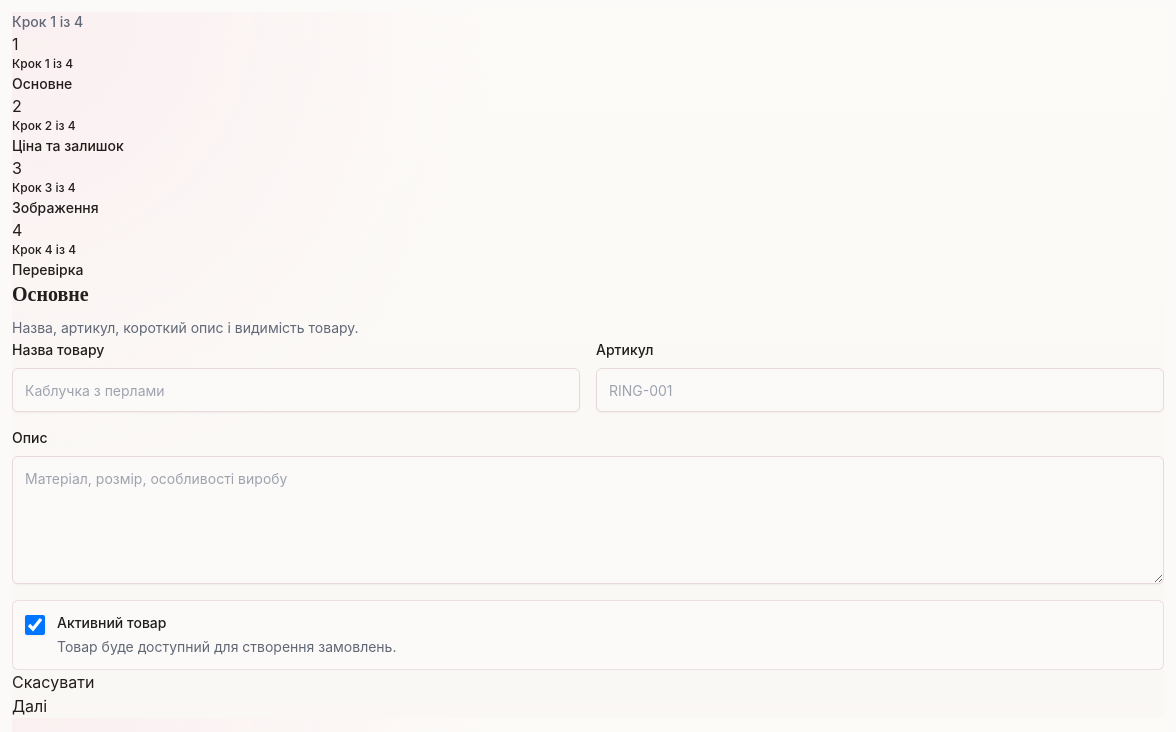
it: ProductForm › validates only the current step before moving forward
The image size is (1176, 732).
What coordinates should you click on to do the following:
click the button "Далі"
I would click on:
 (30, 706)
Its box is [12, 694, 47, 718].
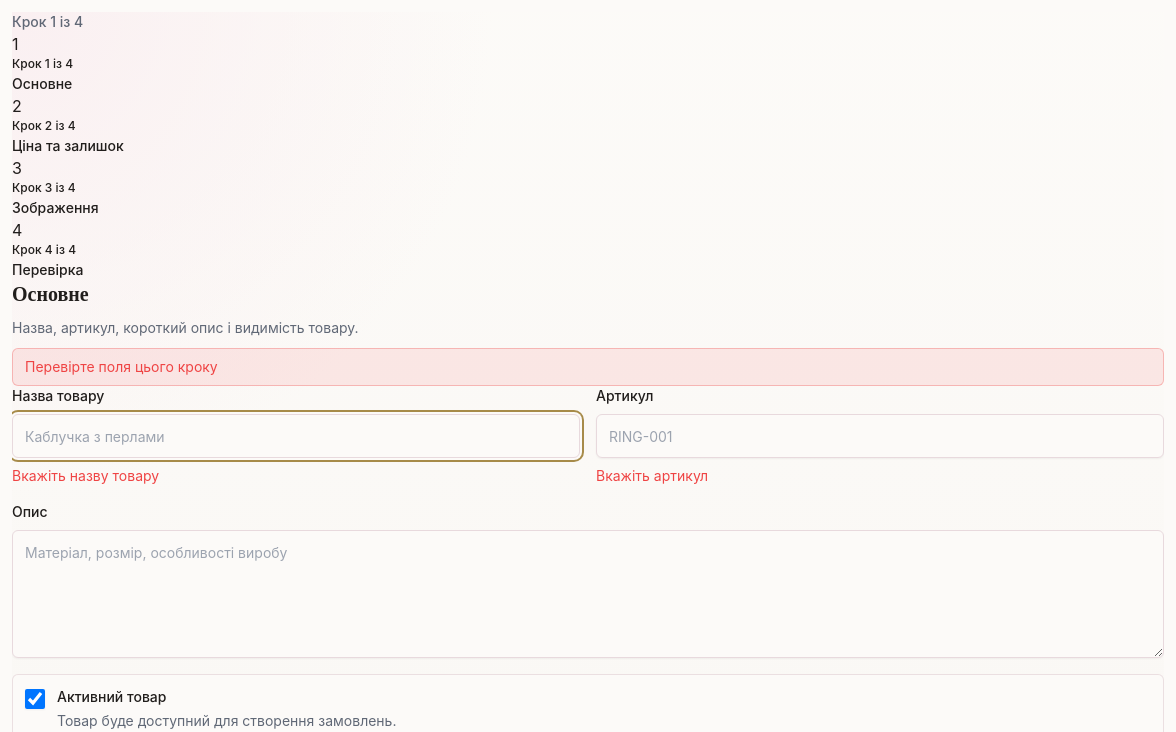
Check: the text "Перевірте поля цього кроку" is shown, box [12, 348, 1164, 386]
Check: the text "Вкажіть назву товару" is shown, box [12, 467, 159, 484]
Check: the text "Вкажіть артикул" is shown, box [596, 467, 708, 484]
